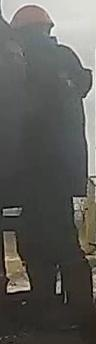helmet: (9, 4, 55, 32)
vest: (18, 51, 86, 202)
